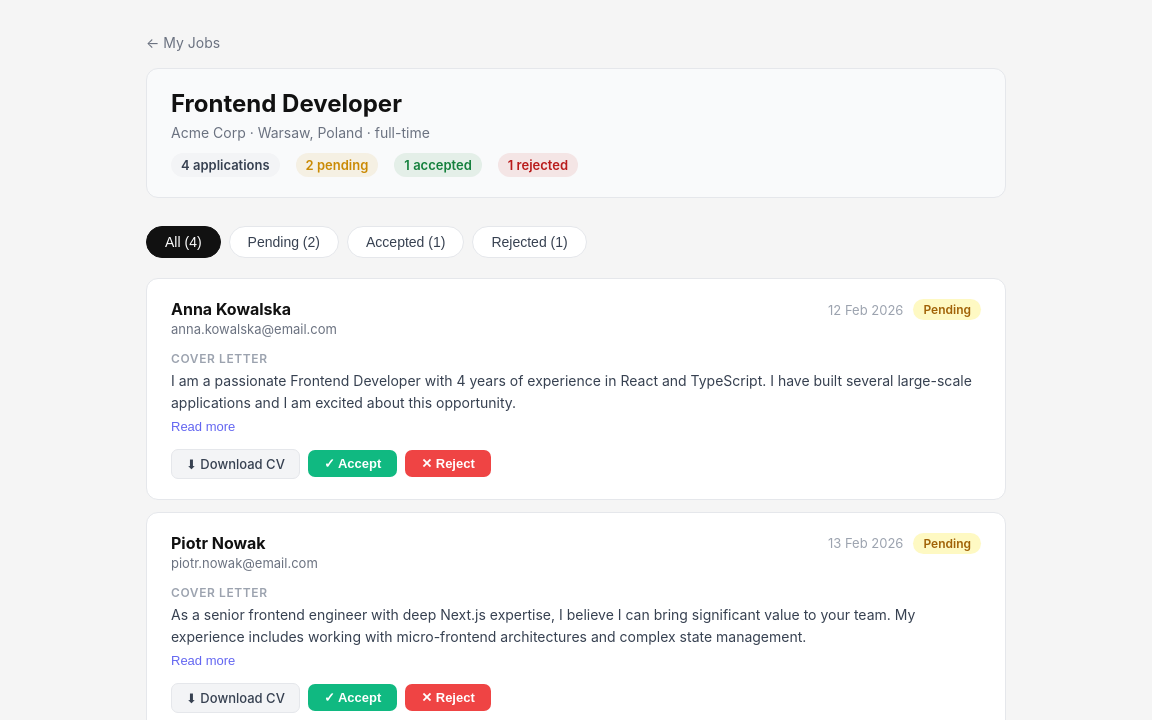
Test: JobApplicationsPage › filter by accepted shows only accepted apps
The width and height of the screenshot is (1152, 720).
Click the button "Accepted (1)": (406, 242) [347, 226, 464, 258]
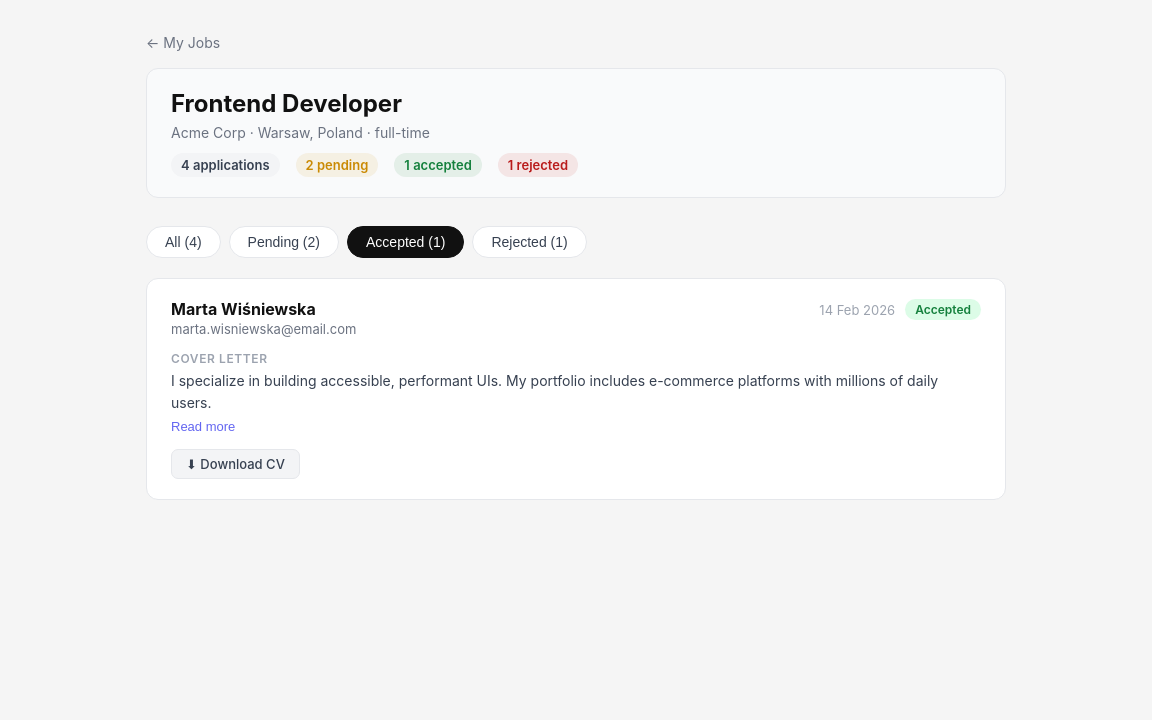
Expected: the text "Marta Wiśniewska" is shown, [171, 299, 316, 319]
Expected: the text "Anna Kowalska" is gone
